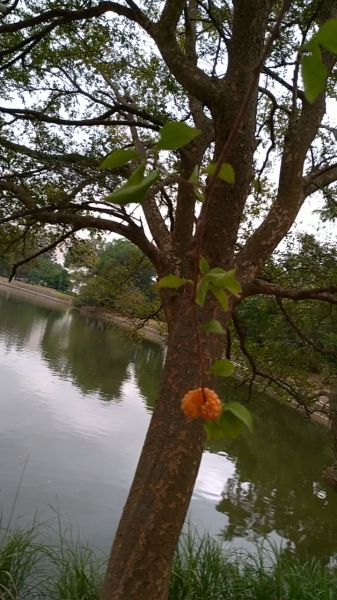eggs: (177, 380, 228, 426)
